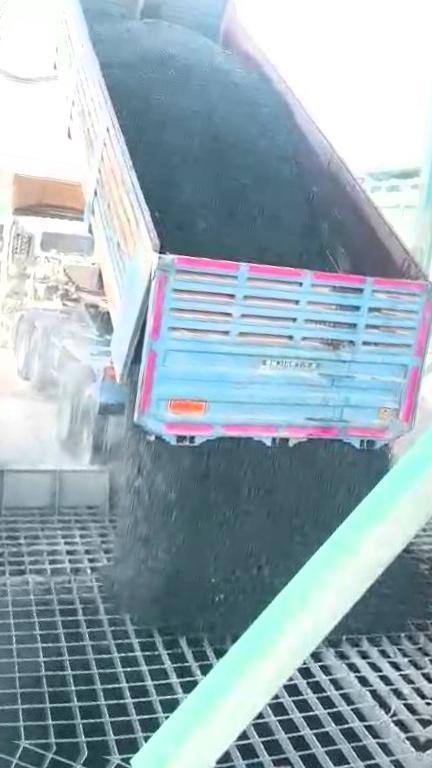gravel: (95, 21, 362, 268), (101, 430, 389, 640), (338, 551, 430, 633)
